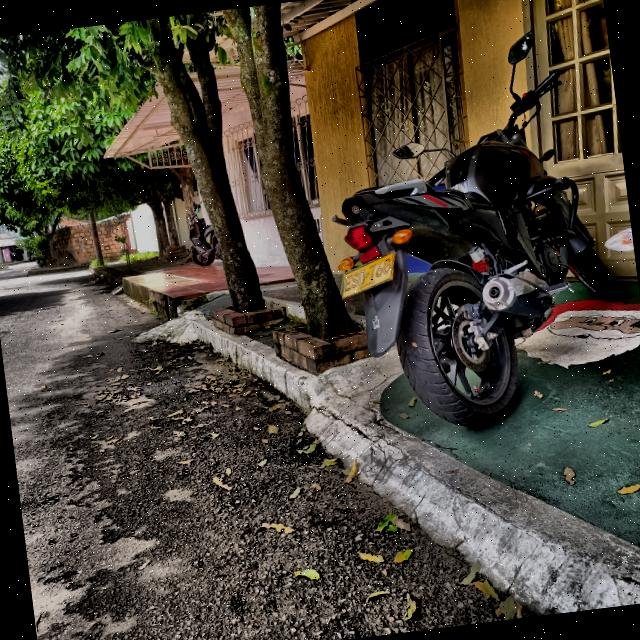plate: (341, 251, 393, 299)
